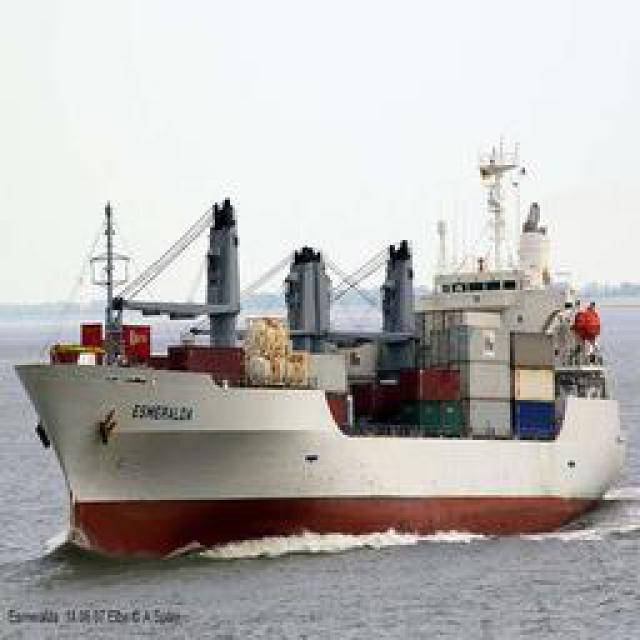Ship: (19, 151, 624, 551)
